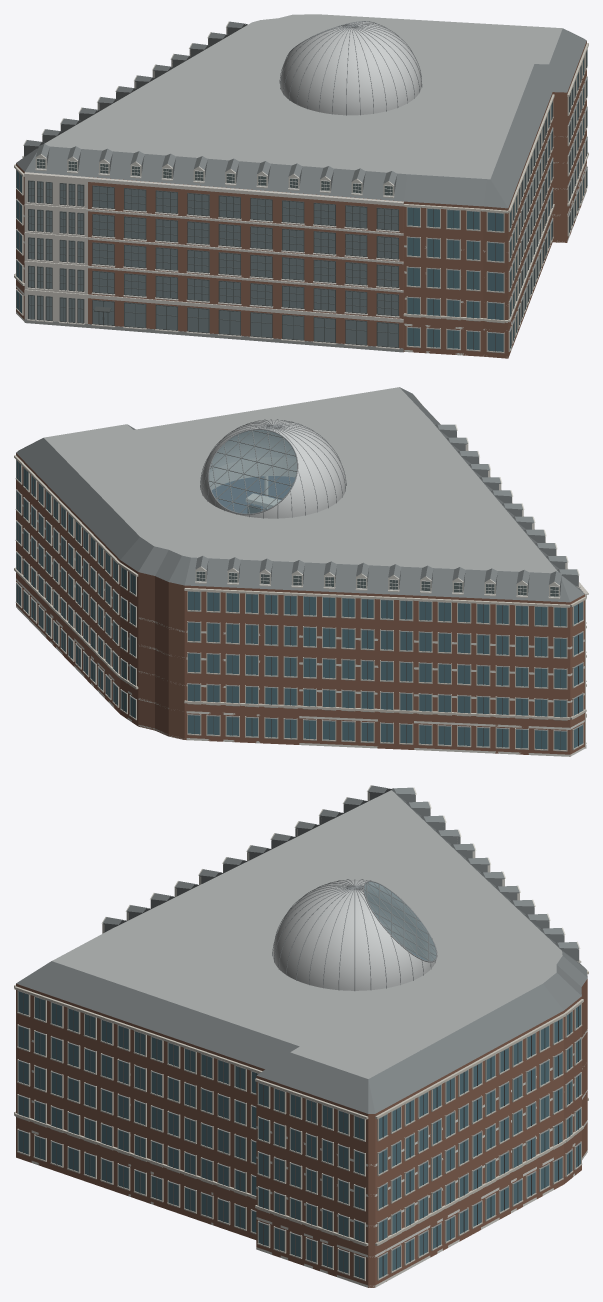
File: lrb-exterior-657a25d4e671.glb
The picture shows the model from 3 angles, top to bottom: view 1: azimuth 30°, elevation 25°; view 2: azimuth 150°, elevation 25°; view 3: azimuth 270°, elevation 25°; orthographic projection. The views are drawn at different scales.
Parts seen in each view (by area): view 1: LRB.001; view 2: LRB.001; view 3: LRB.001.
Part boxes in pixels (x1=…): LRB.001: x1=14, y1=14, x2=588, y2=358; LRB.001: x1=14, y1=387, x2=588, y2=756; LRB.001: x1=14, y1=785, x2=588, y2=1287.
Size of the model in its own units: 89.68 by 34.91 by 68.9.
